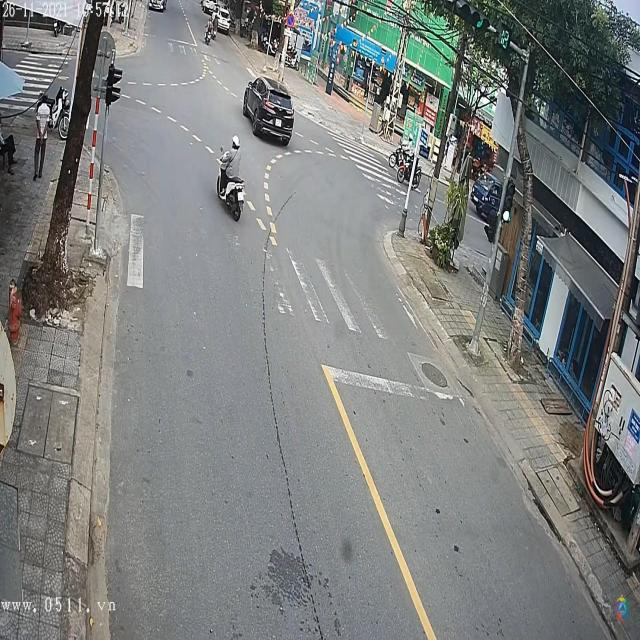car: (242, 77, 294, 145), (149, 0, 168, 11)
motorcycle: (216, 160, 245, 221)
